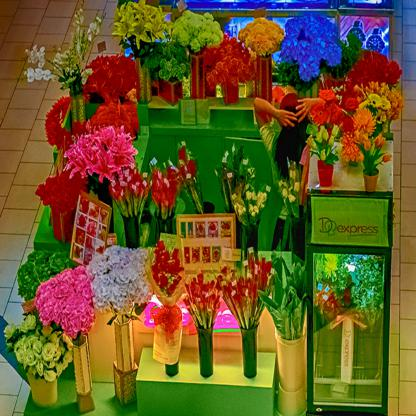vase: (18, 31, 381, 415)
